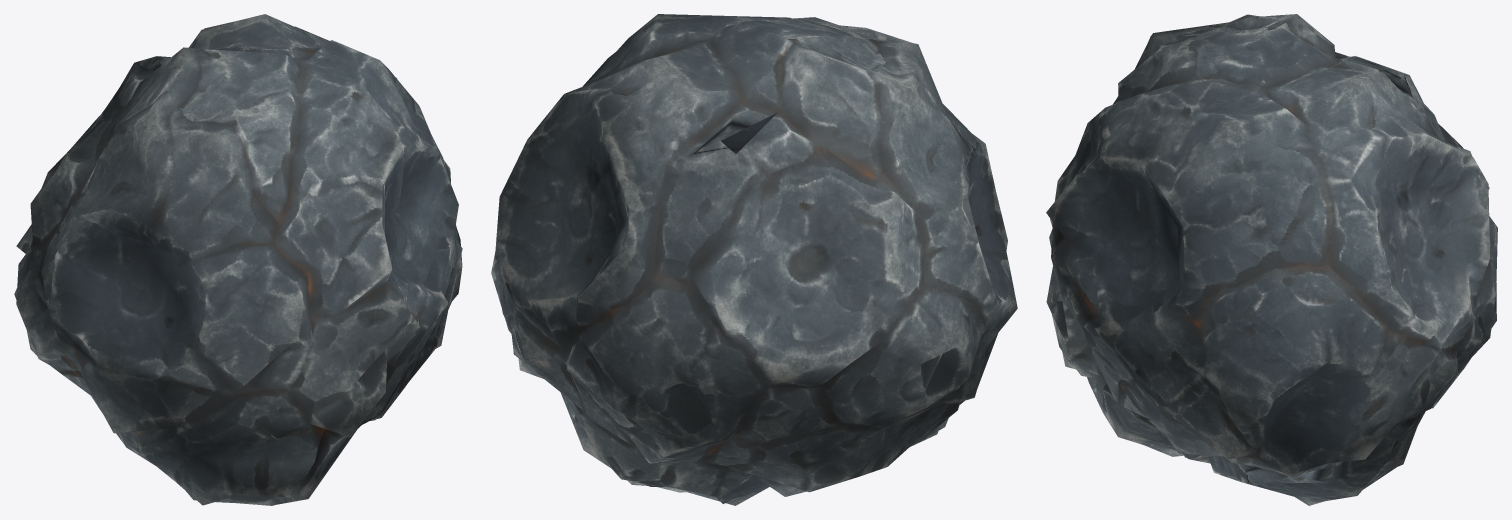
Rendered from meteor.glb.
3 renders of one model, left to right at view 1: azimuth 30°, elevation 25°; view 2: azimuth 150°, elevation 25°; view 3: azimuth 270°, elevation 25°, orthographic. The views are drawn at different scales.
Visible parts, largest first — view 1: geom0; view 2: geom0; view 3: geom0.
Part boxes in pixels (x1,y1,x2,y2): geom0: (14, 14, 462, 505); geom0: (491, 14, 1017, 505); geom0: (1046, 14, 1497, 505).
Size of the model in its own units: 1.01 by 0.9843 by 0.9151.
1 material, 1 textured.
